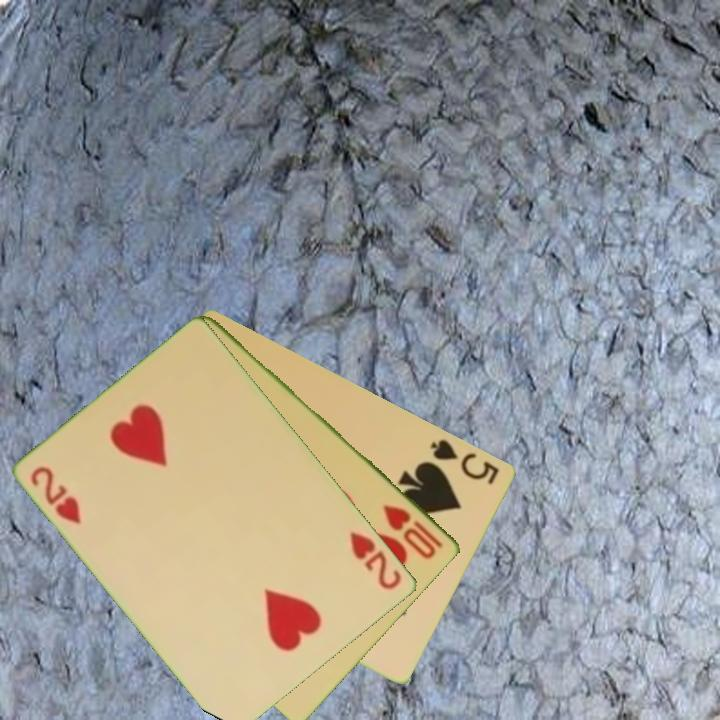10h: (380, 500, 447, 562)
2h: (346, 527, 405, 593), (27, 463, 85, 528)
5s: (427, 435, 503, 487)
